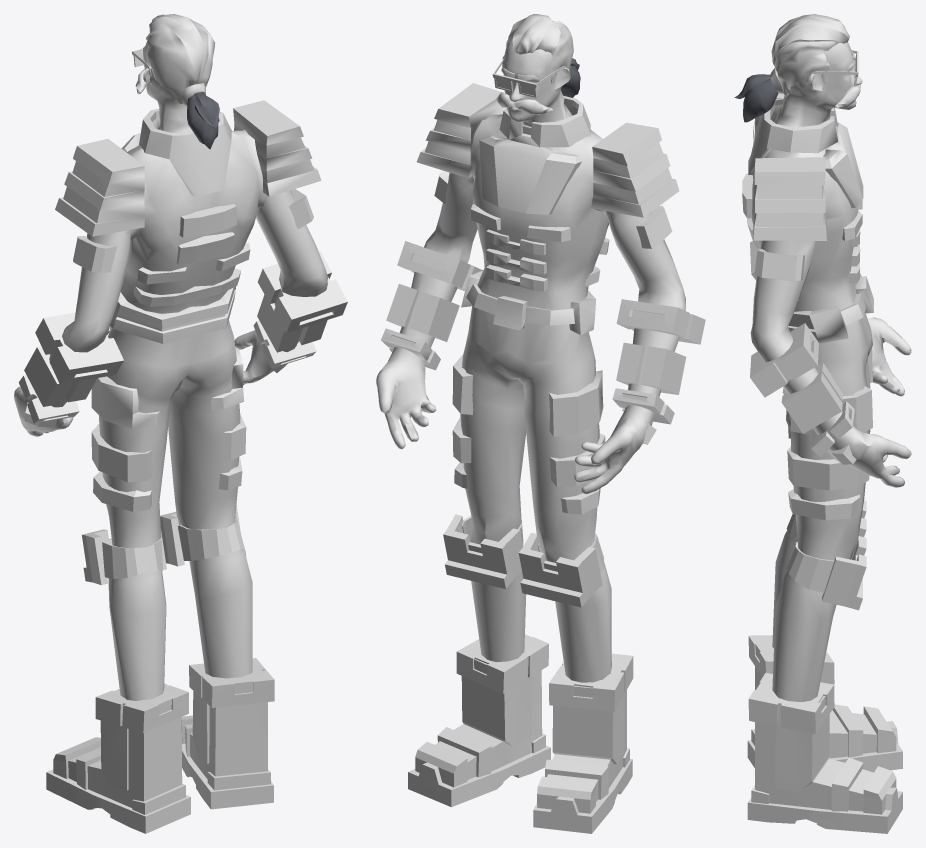
Rendered from GUSEV.fbx.
3 views of the same model, side by side, from view 1: azimuth 30°, elevation 25°; view 2: azimuth 150°, elevation 25°; view 3: azimuth 270°, elevation 25° (orthographic).
Visible parts, largest first — view 1: body_low; view 2: body_low; view 3: body_low.
Boxes of the visible parts, x1,y1,x2,y2 form: body_low: [14, 14, 347, 833]; body_low: [376, 14, 705, 833]; body_low: [734, 14, 911, 833].
Size of the model in its own units: 0.6951 by 0.3791 by 1.82.
7 materials, 1 textured.
